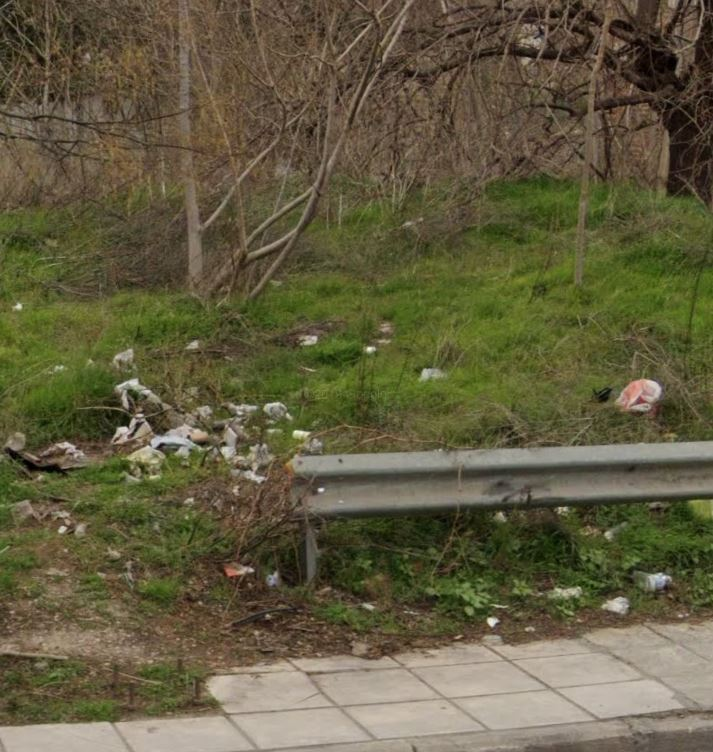trash: (4, 349, 329, 506), (468, 559, 681, 645), (610, 367, 666, 423)
